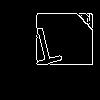T: (25, 25, 66, 76)
